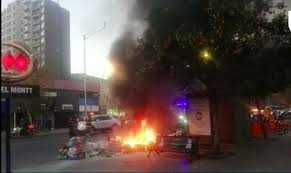Barricade: (2, 37, 179, 157)
